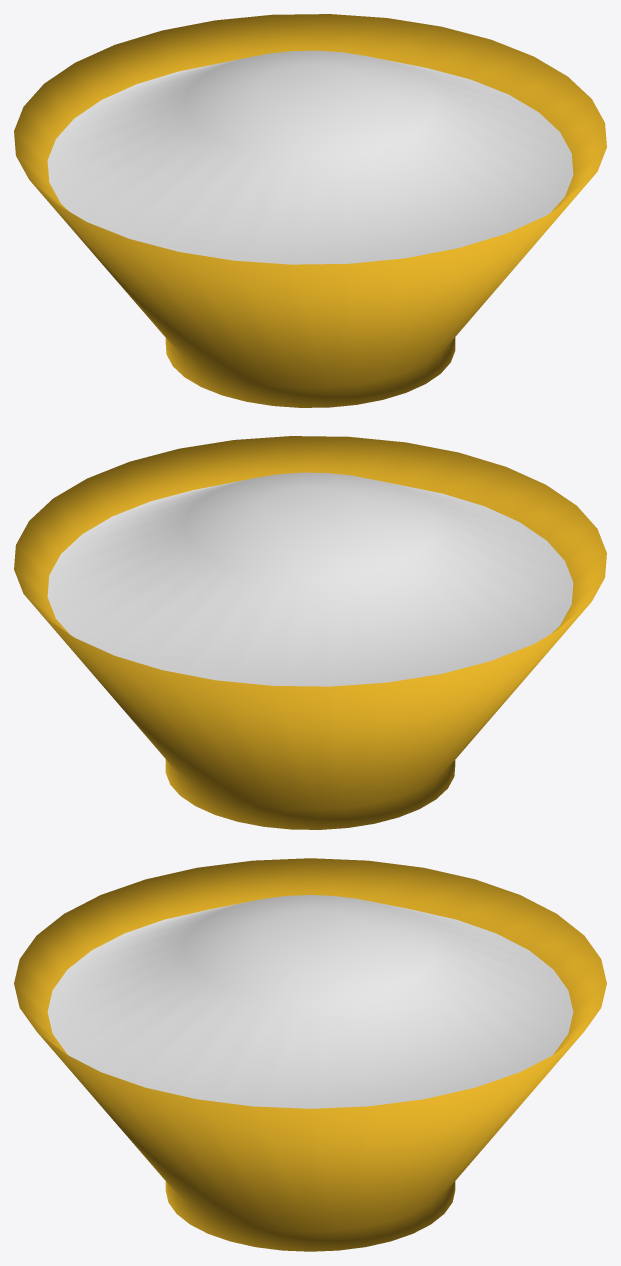
File: Rice_Mesh.fbx
The picture shows the model from 3 angles, top to bottom: view 1: azimuth 30°, elevation 25°; view 2: azimuth 150°, elevation 25°; view 3: azimuth 270°, elevation 25°; orthographic projection.
Visible parts, largest first — view 1: 柱体; view 2: 柱体; view 3: 柱体.
Part boxes in pixels (bbox=[...]): 柱体: bbox=[14, 14, 606, 407]; 柱体: bbox=[14, 436, 606, 829]; 柱体: bbox=[14, 858, 606, 1251].
Bounding box in the file's own units: 314 × 151 × 314.
